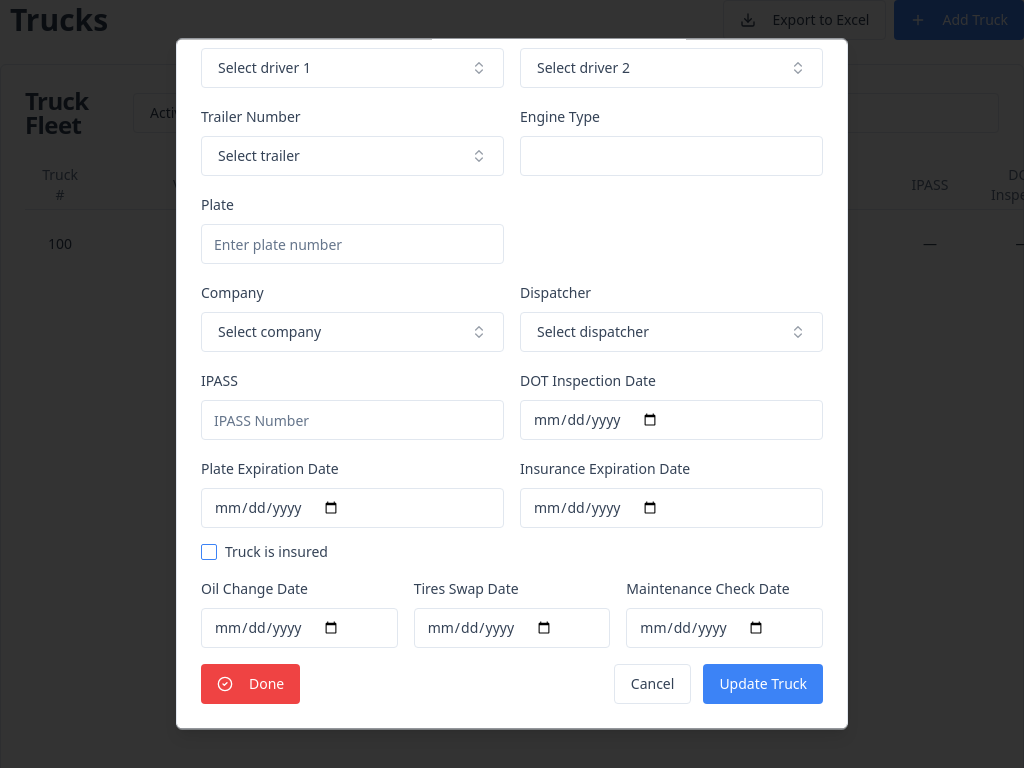
Test: marks an active unit inactive and clears assignments
The image size is (1024, 768).
Earlier steps of the test are not shown.
Later steps or results of the test are not shown.
(page scrolled)
Check: the button "Update Truck" is shown, box left=703, top=664, right=823, bottom=704
What coordinates should you click on to do the following:
click the button "Done"
I would click on:
 (251, 684)
Its box is left=201, top=664, right=300, bottom=704.
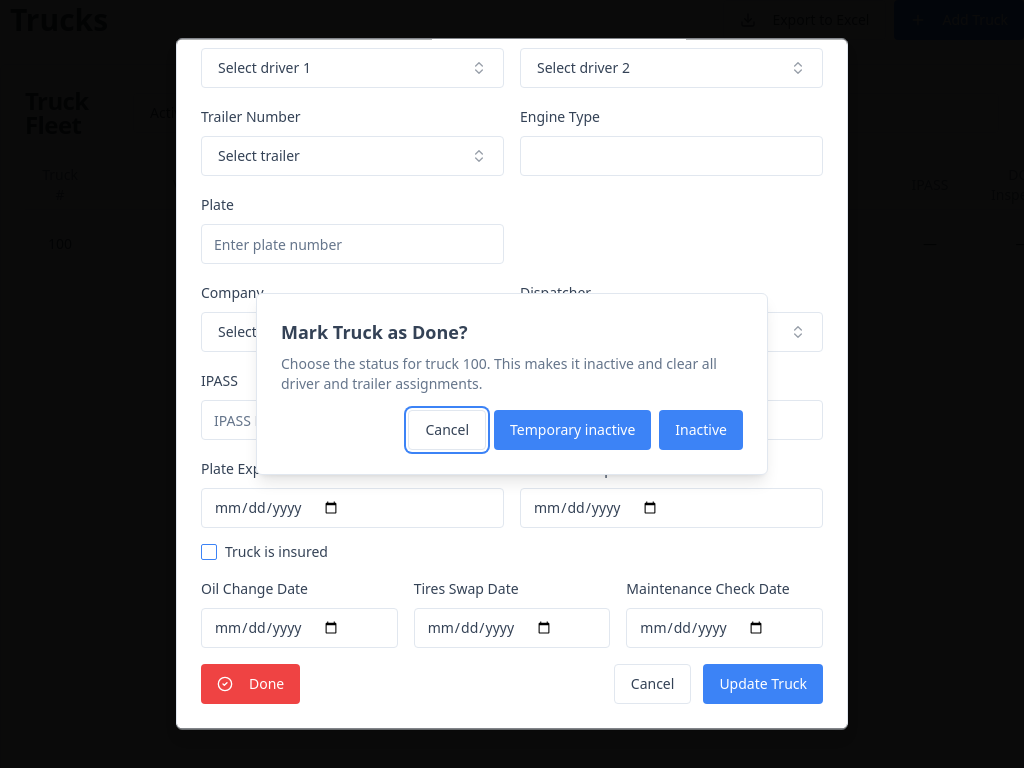
Check: the buttons read "Cancel", "Temporary inactive", "Inactive", in this order
What coordinates should you click on to do the following:
click the button "Inactive"
I would click on:
 (701, 430)
Its box is left=659, top=410, right=743, bottom=450.
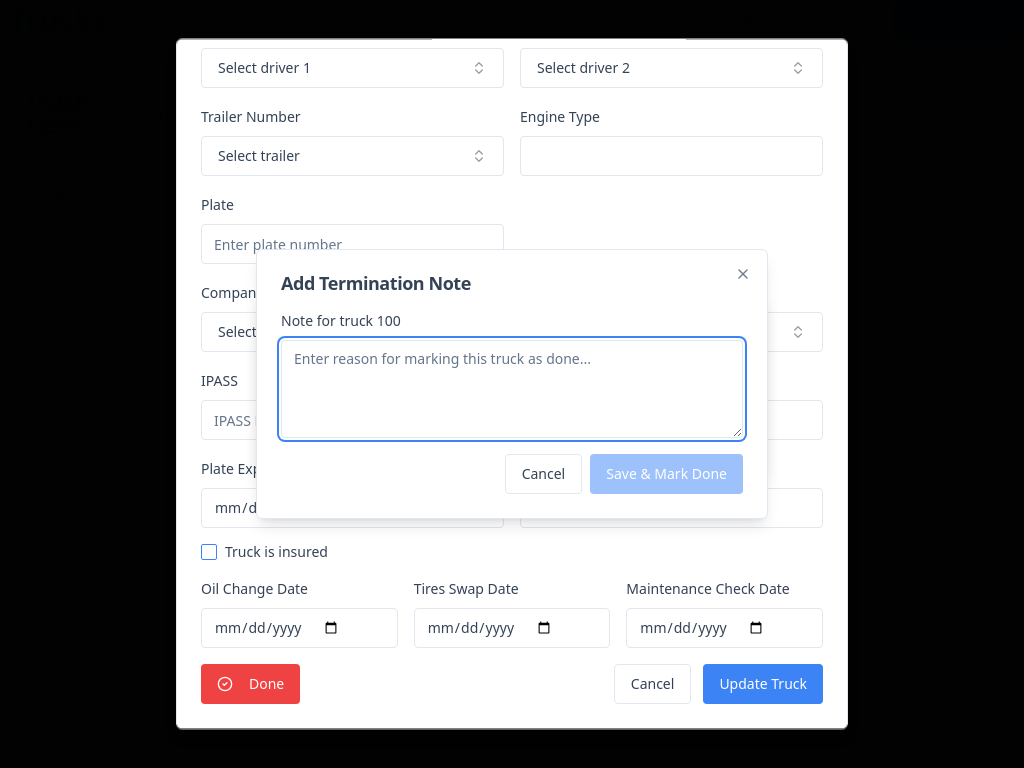
Check: the button "Save & Mark Done" is disabled, box left=590, top=454, right=743, bottom=494
